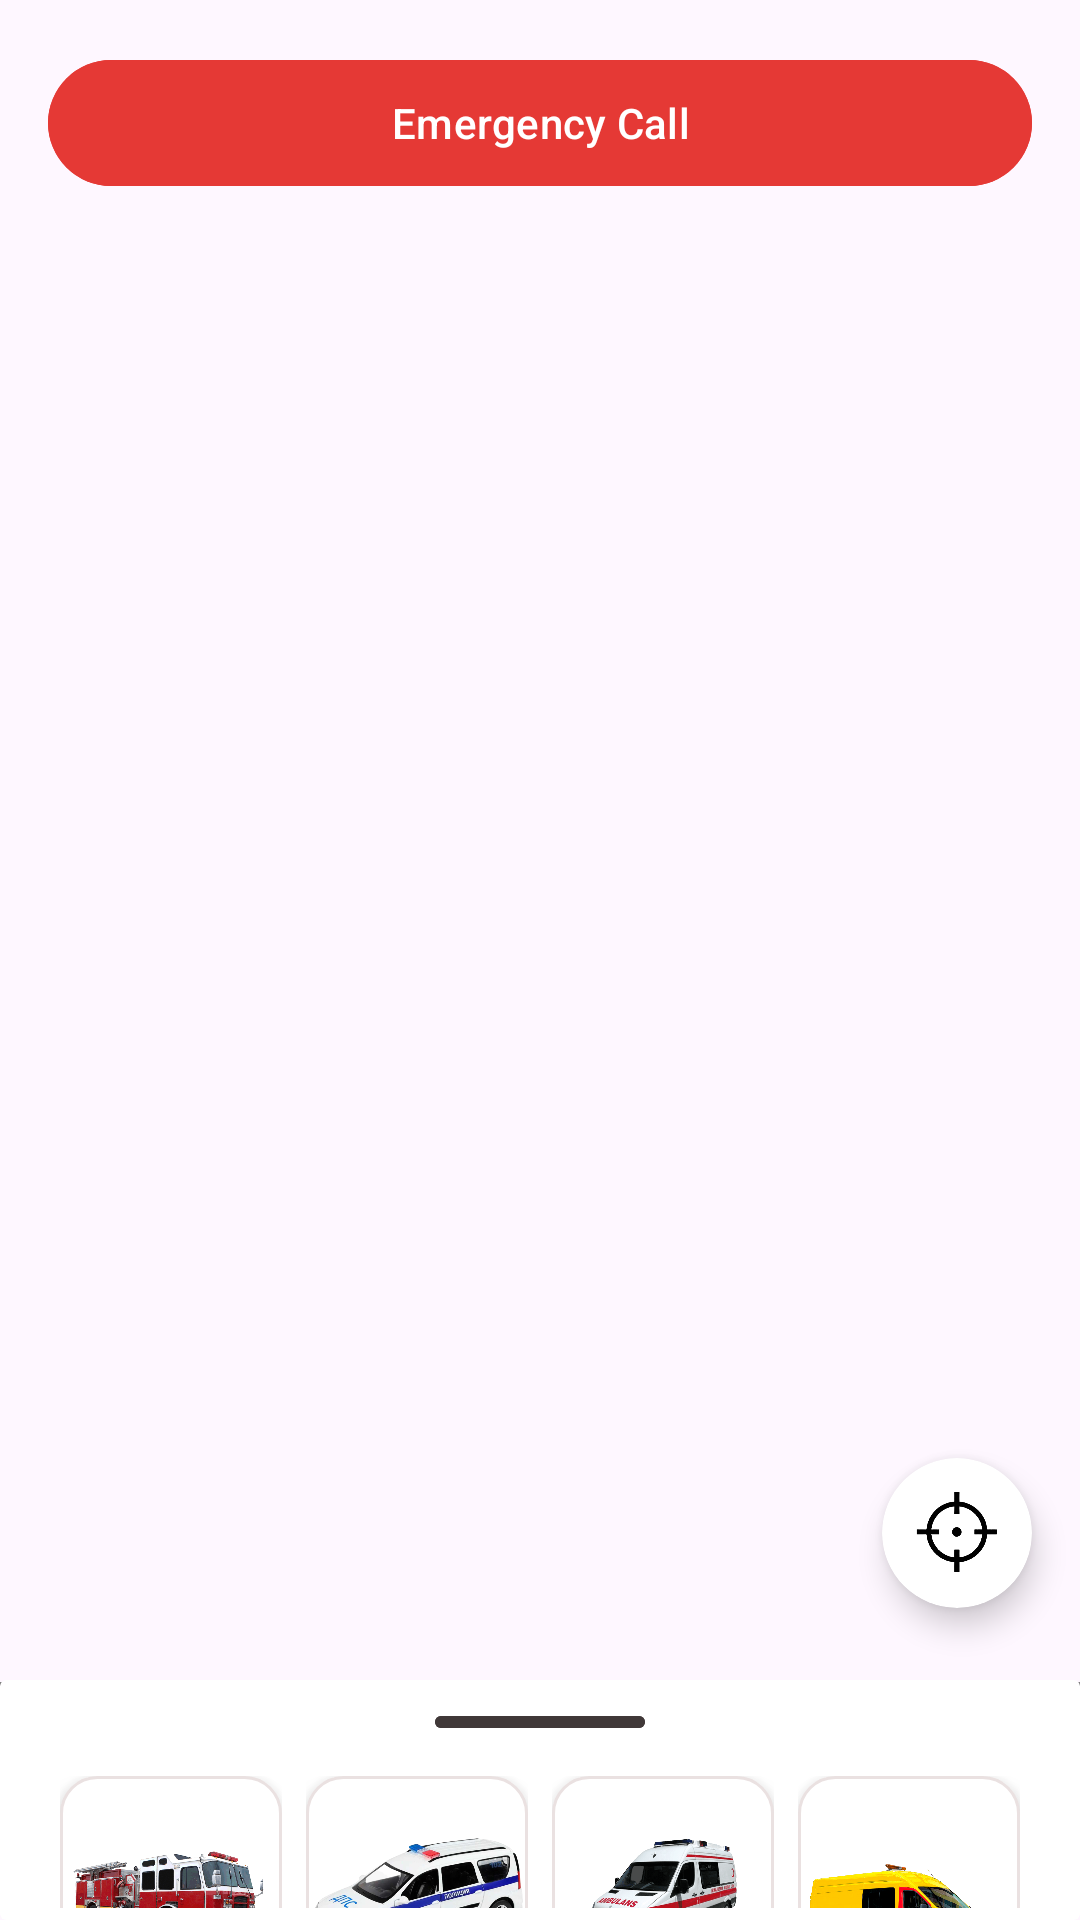

Icon click points for this 1080*1920 phone screenshot, format [x,y]:
current location: [954,1527]
